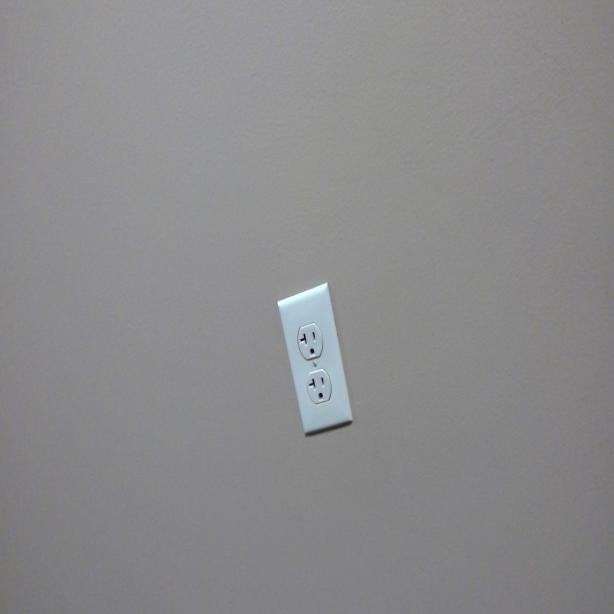typeb: (296, 324, 321, 358), (307, 373, 330, 404)
